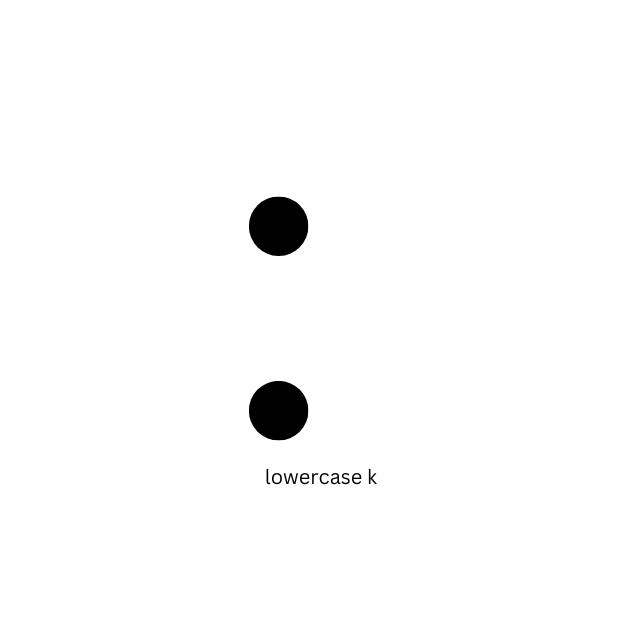letter_k: (249, 195, 398, 441)
